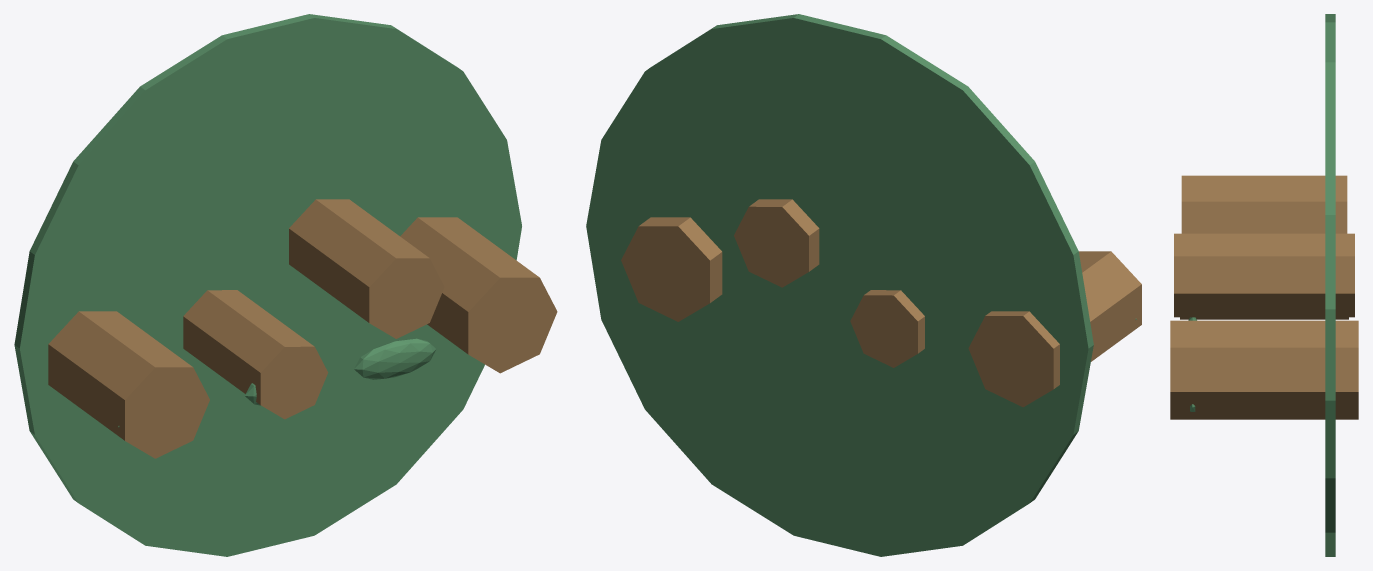
File: 03_ambient_object_cluster.glb
3 renders of one model, left to right at view 1: azimuth 30°, elevation 25°; view 2: azimuth 150°, elevation 25°; view 3: azimuth 270°, elevation 25°, orthographic. The views are drawn at different scales.
Visible parts, largest first — view 1: scatter_base, root_stump_0, root_stump_3, root_stump_2, root_stump_1, moss_2; view 2: scatter_base, root_stump_0, root_stump_3, root_stump_2, root_stump_1; view 3: root_stump_3, root_stump_2, root_stump_0, scatter_base, root_stump_1.
Part boxes in pixels (box(x1,y1,x2,y2)): scatter_base: box(14, 14, 521, 556); root_stump_0: box(48, 311, 209, 458); root_stump_3: box(400, 217, 557, 373); root_stump_2: box(289, 199, 444, 338); root_stump_1: box(183, 290, 328, 419); moss_2: box(354, 338, 436, 379); scatter_base: box(586, 14, 1093, 556); root_stump_0: box(968, 251, 1141, 407); root_stump_3: box(621, 217, 722, 321); root_stump_2: box(734, 199, 819, 287); root_stump_1: box(850, 290, 924, 367); root_stump_3: box(1170, 320, 1358, 419); root_stump_2: box(1174, 233, 1354, 317); root_stump_0: box(1181, 175, 1347, 233); scatter_base: box(1325, 14, 1335, 556); root_stump_1: box(1180, 317, 1348, 319).
Bounding box in the file's own units: 1.9 × 1.87 × 0.6555.
